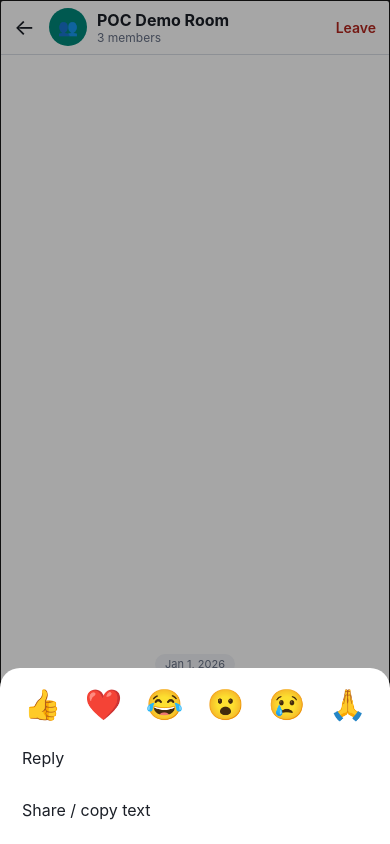
Scenario: the reply bar can be cancelled
Click the text "Reply": point(43, 758) [22, 748, 64, 768]
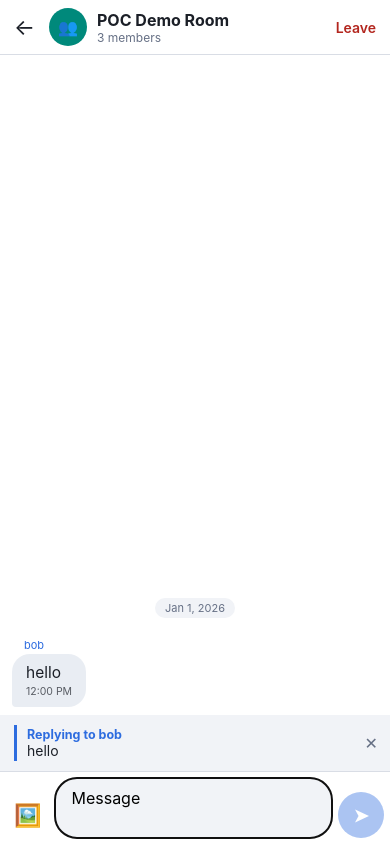
Click the element named "Cancel reply": point(371, 743) [365, 733, 378, 753]
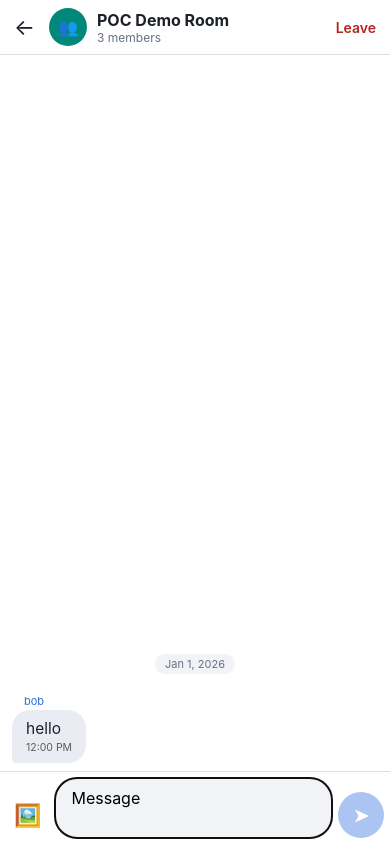
Now the text "Replying to bob" is gone
